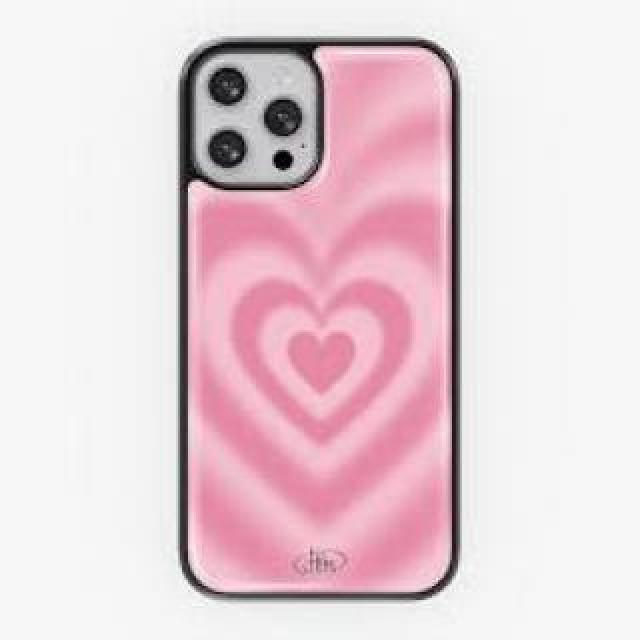smart phone: (182, 22, 466, 583)
